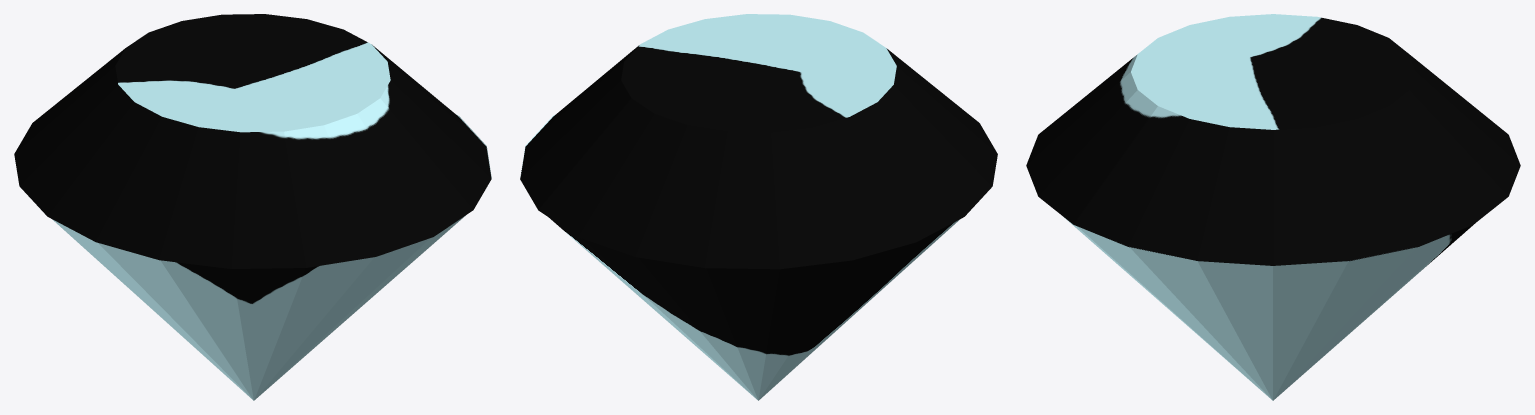
The model's file is SM_Diamond.fbx.
3 renders of one model, left to right at view 1: azimuth 30°, elevation 25°; view 2: azimuth 150°, elevation 25°; view 3: azimuth 270°, elevation 25°, orthographic.
Parts seen in each view (by area): view 1: Diamond; view 2: Diamond; view 3: Diamond.
Part boxes in pixels (bbox=[...]): Diamond: bbox=[14, 14, 491, 400]; Diamond: bbox=[520, 14, 997, 400]; Diamond: bbox=[1026, 14, 1520, 400].
Size of the model in its own units: 15.28 by 11.63 by 15.87.
Materials: 1 (1 with a texture image).
